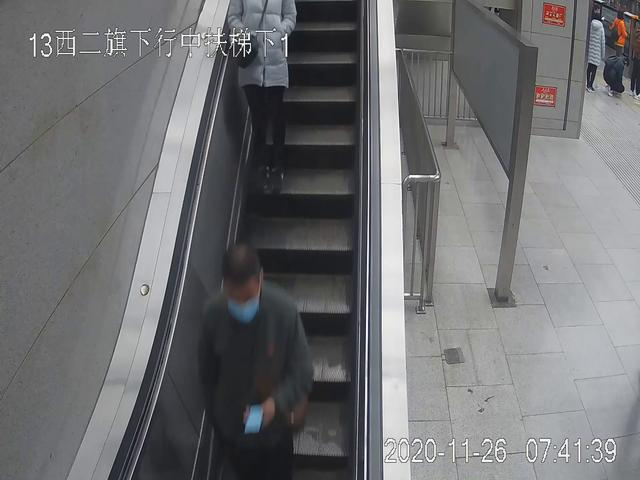person: (204, 247, 316, 480), (227, 1, 296, 192), (607, 9, 631, 75), (586, 13, 603, 92)
